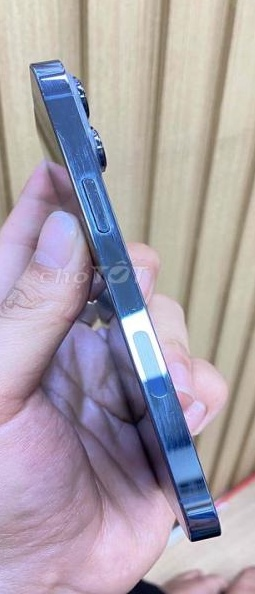scratch: (58, 126, 120, 243), (155, 398, 213, 509)
